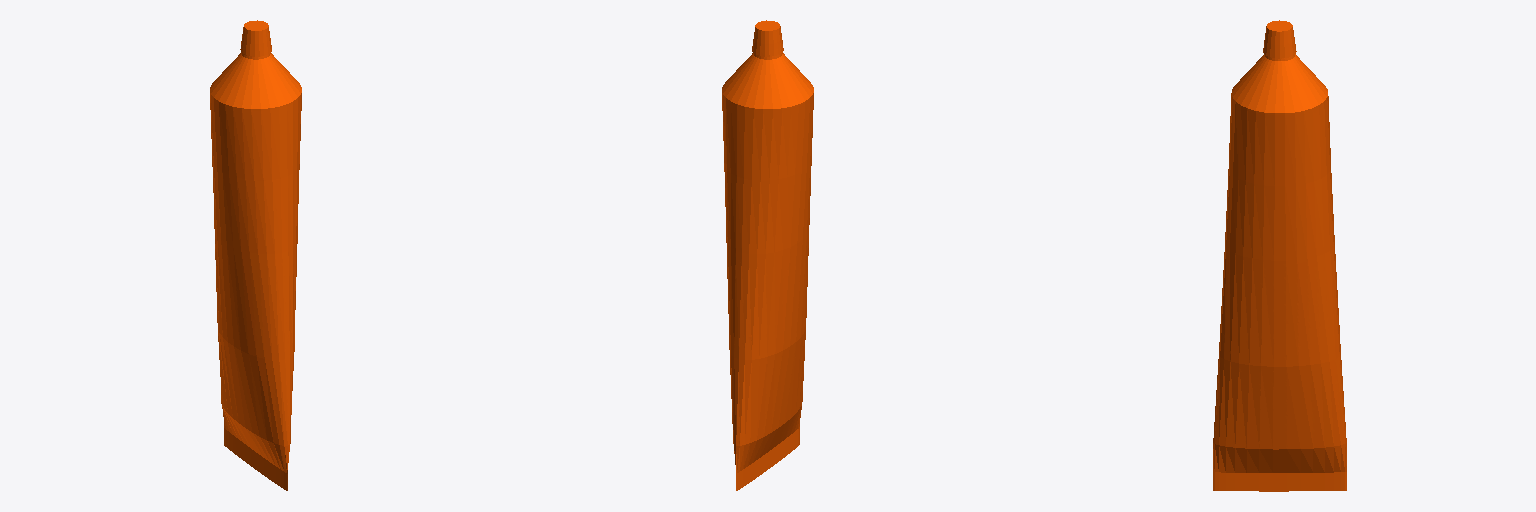
URDF robot description (toothpaste):
<?xml version="1.0" ?>
<robot name="toothpaste">
   <material name="obj_color">
      <color rgba="1.0 0.423529411765 0.0392156862745 1.0"/>
   </material>
   <link name="top">
      <inertial>
         <origin rpy="5.477627735502268e-05 0.0007185117185687677 0.000738725935282674" xyz="1.590567081020878e-05 -2.823859859115034e-05 0.004923766195169799"/>
         <mass value="0.3168152589076595"/>
         <inertia ixx="0.0007387255468016234" ixy="-8.508823626633947e-08" ixz="1.448202048097597e-07" iyy="0.0007185120169962714" iyz="1.98523416962638e-07" izz="5.477636740856958e-05"/>
      </inertial>
      <visual>
         <origin rpy="0 0 0" xyz="0 0 0"/>
         <geometry>
            <mesh filename="top_watertight_tiny.stl" scale="1 1 1"/>
         </geometry>
         <material name="obj_color"/>
      </visual>
      <collision>
         <origin rpy="0 0 0" xyz="0 0 0"/>
         <geometry>
            <mesh filename="top_watertight_tiny.obj" scale="1 1 1"/>
         </geometry>
      </collision>
   </link>
   <link name="bottom">
      <inertial>
         <origin rpy="1.633333333194242e-08 1.633333333194243e-08 1.633333333357667e-08" xyz="0.3464080000000008 0.3464080000000008 0.3464080000000008"/>
         <mass value="0.0009800000000000017"/>
         <inertia ixx="1.633333333248717e-08" ixy="5.447480642029219e-19" ixz="5.447480642029219e-19" iyy="1.633333333248717e-08" iyz="5.447480642029219e-19" izz="1.633333333248717e-08"/>
      </inertial>
      <visual>
         <origin rpy="0 0 0" xyz="0 0 0"/>
         <geometry>
            <mesh filename="bottom_watertight_tiny.stl" scale="1 1 1"/>
         </geometry>
         <material name="obj_color"/>
      </visual>
   </link>
   <link name="world"/>
   <joint name="world_to_base" type="fixed">
      <origin xyz="0 0 0"/>
      <axis xyz="0 0 0"/>
      <parent link="world"/>
      <child link="bottom"/>
   </joint>
   <joint name="rotation" type="revolute">
      <origin xyz="0 0 0"/>
      <axis xyz="0 0 -1"/>
      <parent link="bottom"/>
      <child link="top"/>
      <dynamics damping="1.0" friction="1.0"/>
      <limit effort="0.1" velocity="0.1" lower="0" upper="0.001"/>
   </joint>
</robot>

--- Facts derived from the render (not from the file) ---
Views: 3 orthographic renders of the robot side by side, from view 1: azimuth 30°, elevation 25°; view 2: azimuth 150°, elevation 25°; view 3: azimuth 270°, elevation 25°.
Robot: toothpaste — 3 links, 2 joints (1 revolute, 1 fixed); root link world; default pose: all joints at 0.
Links seen in each view (by area): view 1: top; view 2: top; view 3: top.
Link boxes in pixels (x1,y1,x2,y2): top: (210,20,301,490); top: (722,20,813,490); top: (1213,20,1346,491).
Bounding box of the posed robot: 0.038 × 0.0526 × 0.202 m (x, y, z).
1 mesh visuals loaded from 2 distinct referenced files (1 binary STL); not drawn: 1 (reference not matched to a file when rendering).
